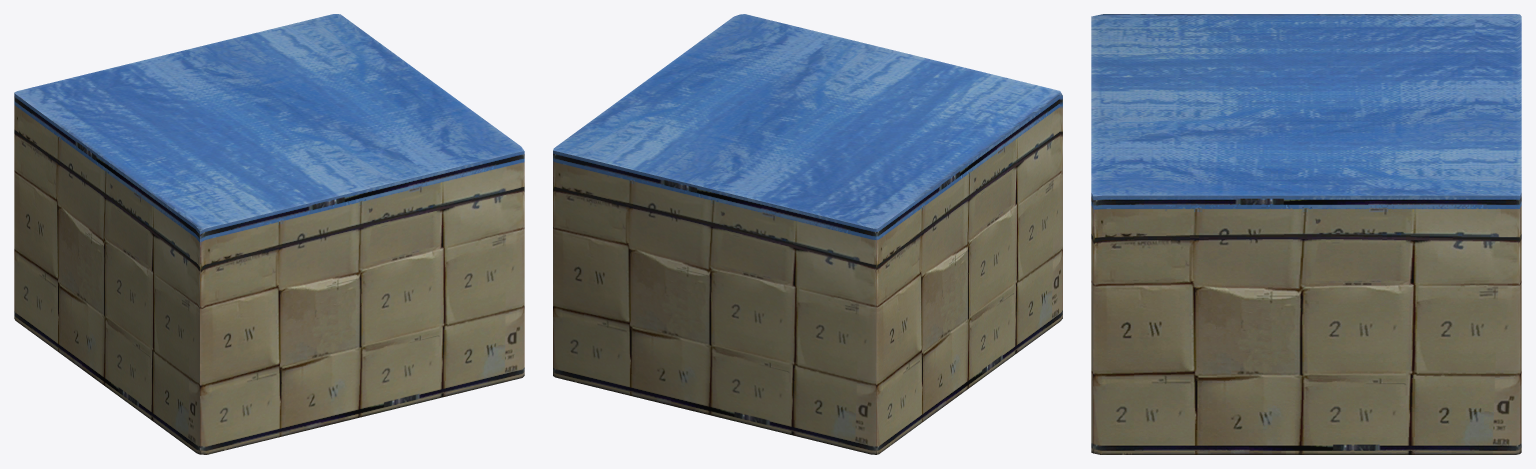
The model's file is Box_Pallet.glb.
3 views of the same model, side by side, from view 1: azimuth 30°, elevation 25°; view 2: azimuth 150°, elevation 25°; view 3: azimuth 270°, elevation 25° (orthographic). The views are drawn at different scales.
Visible parts, largest first — view 1: Box_Pallet; view 2: Box_Pallet; view 3: Box_Pallet.
Part boxes in pixels (bbox=[...]): Box_Pallet: bbox=[14, 14, 524, 454]; Box_Pallet: bbox=[553, 14, 1062, 454]; Box_Pallet: bbox=[1091, 14, 1521, 454].
Size of the model in its own units: 1.65 by 1.1 by 1.65.
1 material, 1 textured.
